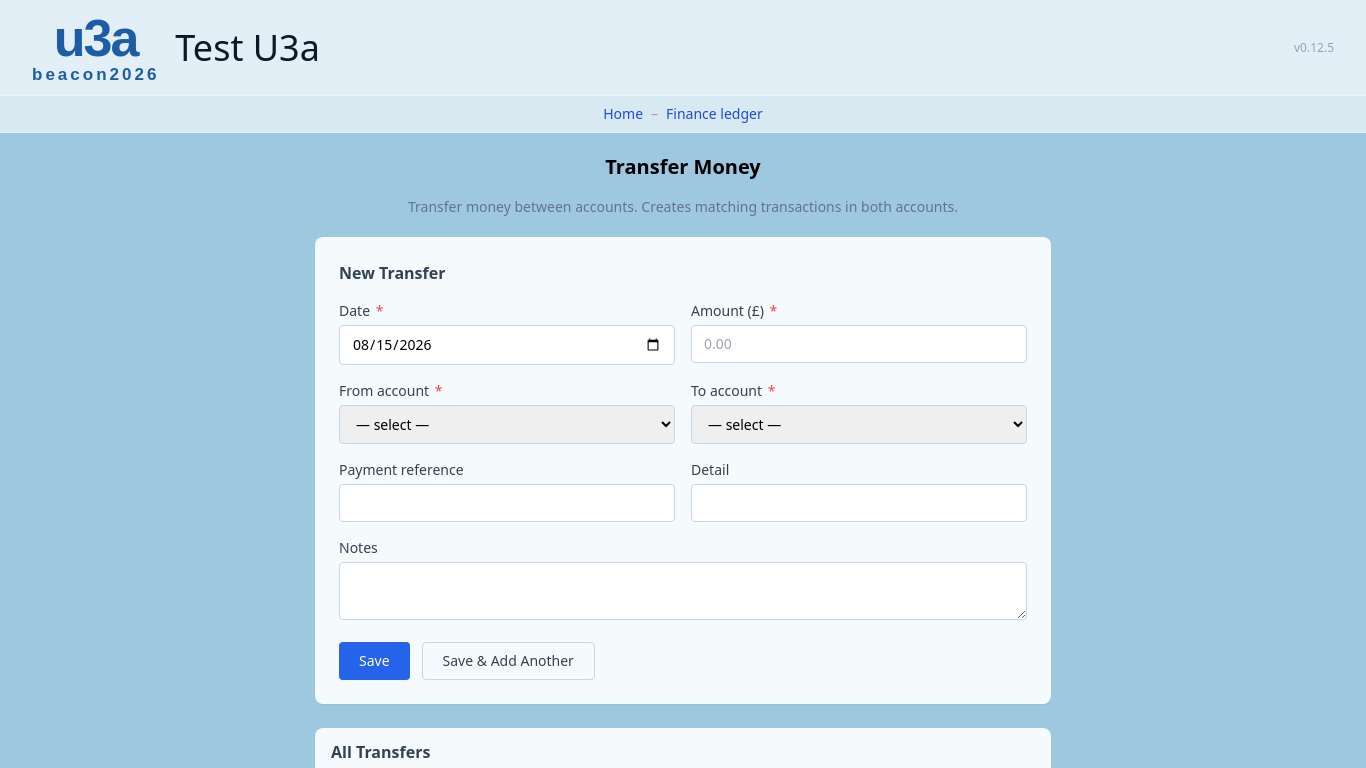
Test: TransferMoney page › validates that a positive amount is required
The width and height of the screenshot is (1366, 768).
Click the button "Save": click(374, 661) x1=339 y1=642 x2=410 y2=680
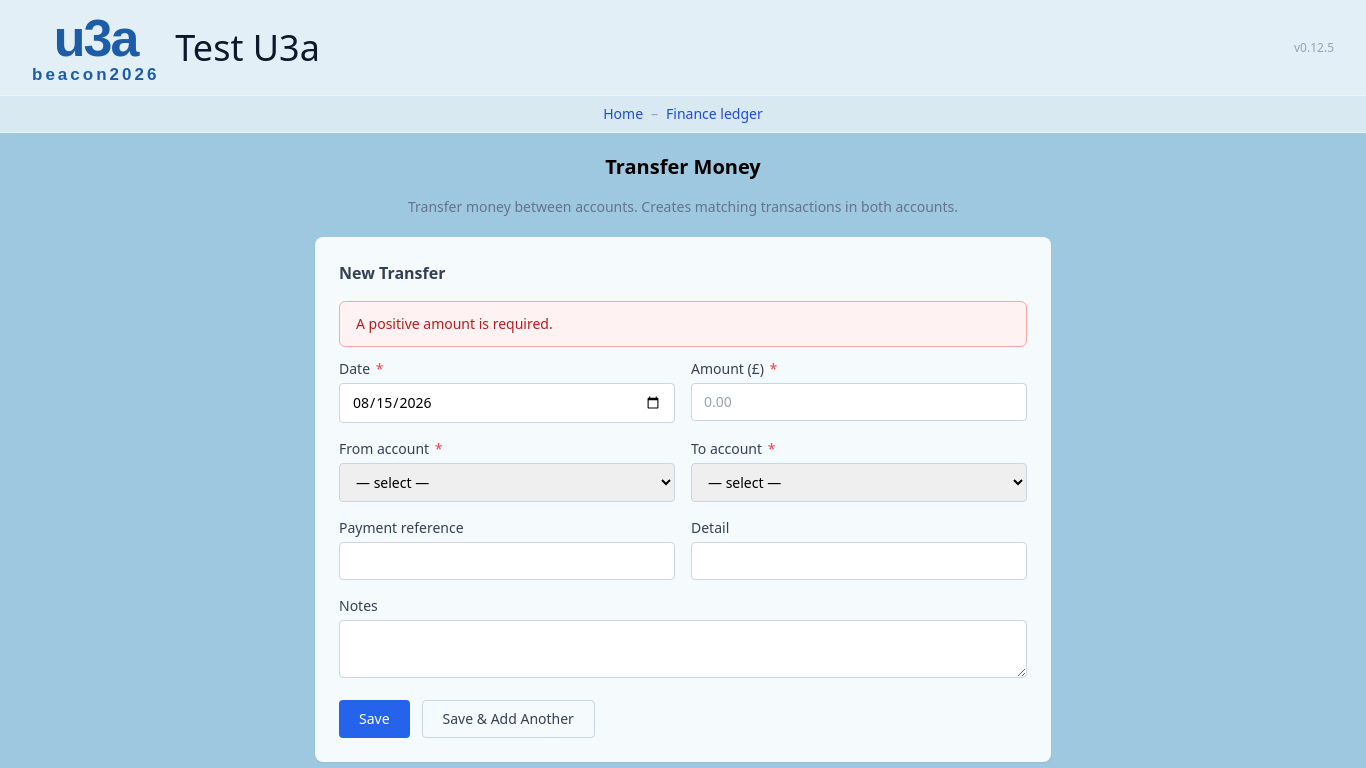
Now the text "A positive amount is required." is shown, box x1=339 y1=301 x2=1027 y2=347
